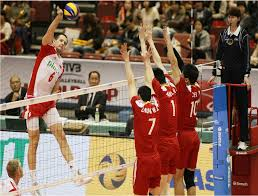ball: (63, 1, 80, 19)
